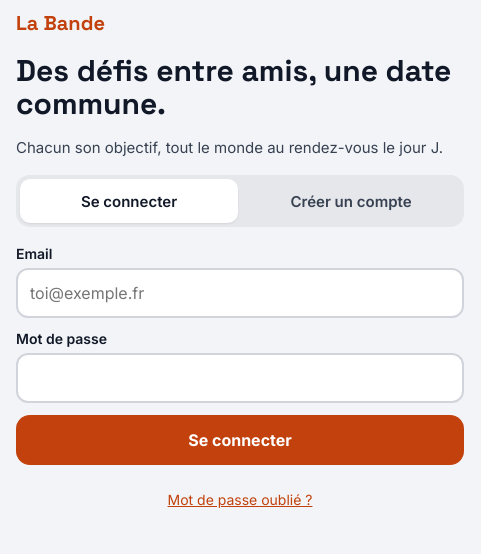
Login › affiche une erreur en français si les identifiants sont faux
In the field labelled "Email": (240, 293) [16,268,464,318], type "julie@exemple.fr"
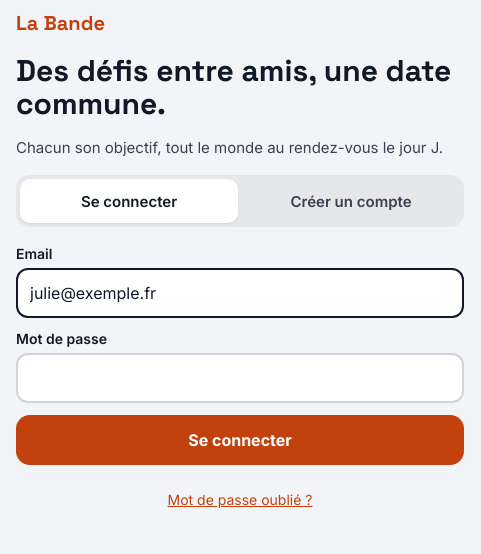
In the password field labelled "Mot de passe": (240, 378) [16,353,464,403], type "mauvais"
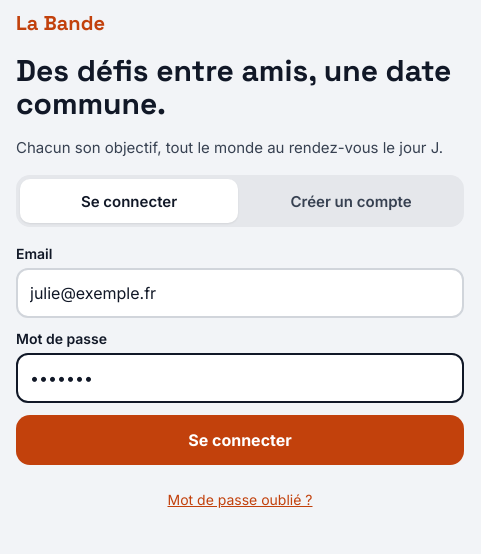
Click the button "Se connecter": (240, 440) [16,415,464,465]
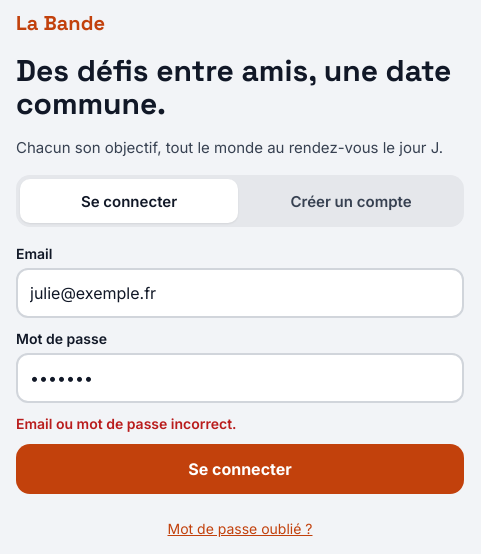
Now the message reads "Email ou mot de passe incorrect.", box [16,415,236,432]
